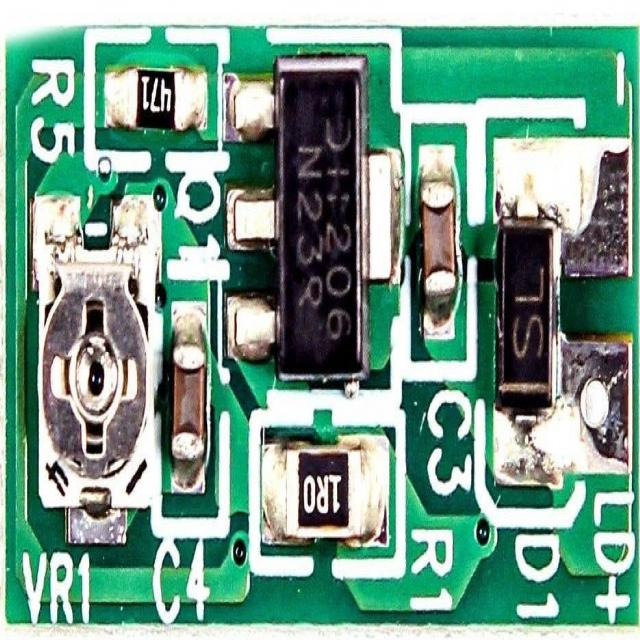IC: (243, 56, 380, 382)
capacitor 1V5: (422, 167, 463, 322), (171, 326, 205, 468)
diode -D1-: (482, 196, 558, 420)
potentiometer POT1: (25, 204, 153, 509)
resistor IR1: (272, 438, 382, 538), (122, 64, 196, 130)
